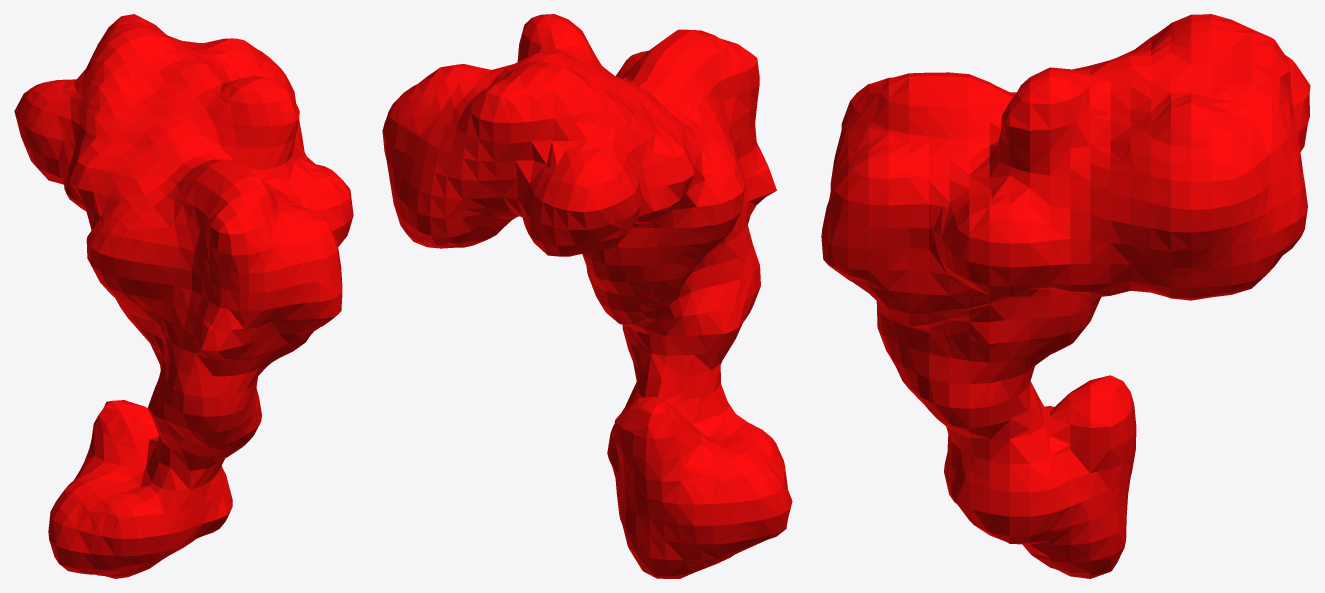
The model's file is ydjF_coarse.dae.
The picture shows the model from 3 angles, left to right: view 1: azimuth 30°, elevation 25°; view 2: azimuth 150°, elevation 25°; view 3: azimuth 270°, elevation 25°; orthographic projection. The views are drawn at different scales.
Parts seen in each view (by area): view 1: ydjF; view 2: ydjF; view 3: ydjF.
Boxes of the visible parts, x1,y1,x2,y2 form: ydjF: (14,14,353,578); ydjF: (382,14,792,578); ydjF: (821,14,1310,578).
Bounding box in the file's own units: 50.68 × 79.33 × 59.26.
